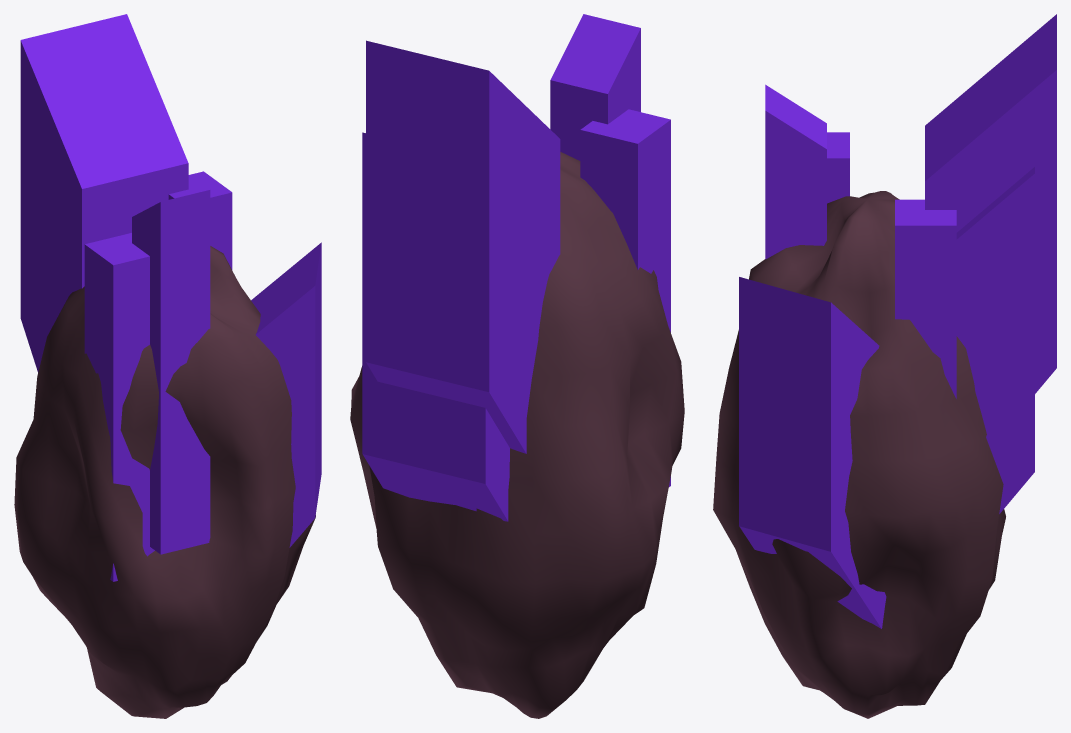
Rendered from Vessel.fbx.
3 views of the same model, side by side, from view 1: azimuth 30°, elevation 25°; view 2: azimuth 150°, elevation 25°; view 3: azimuth 270°, elevation 25° (orthographic). The views are drawn at different scales.
Visible parts, largest first — view 1: Sphere; view 2: Sphere; view 3: Sphere.
Part boxes in pixels (x1,y1,x2,y2): Sphere: (14, 14, 321, 718); Sphere: (350, 14, 684, 718); Sphere: (713, 14, 1056, 718).
Bounding box in the file's own units: 225 × 525 × 242.
